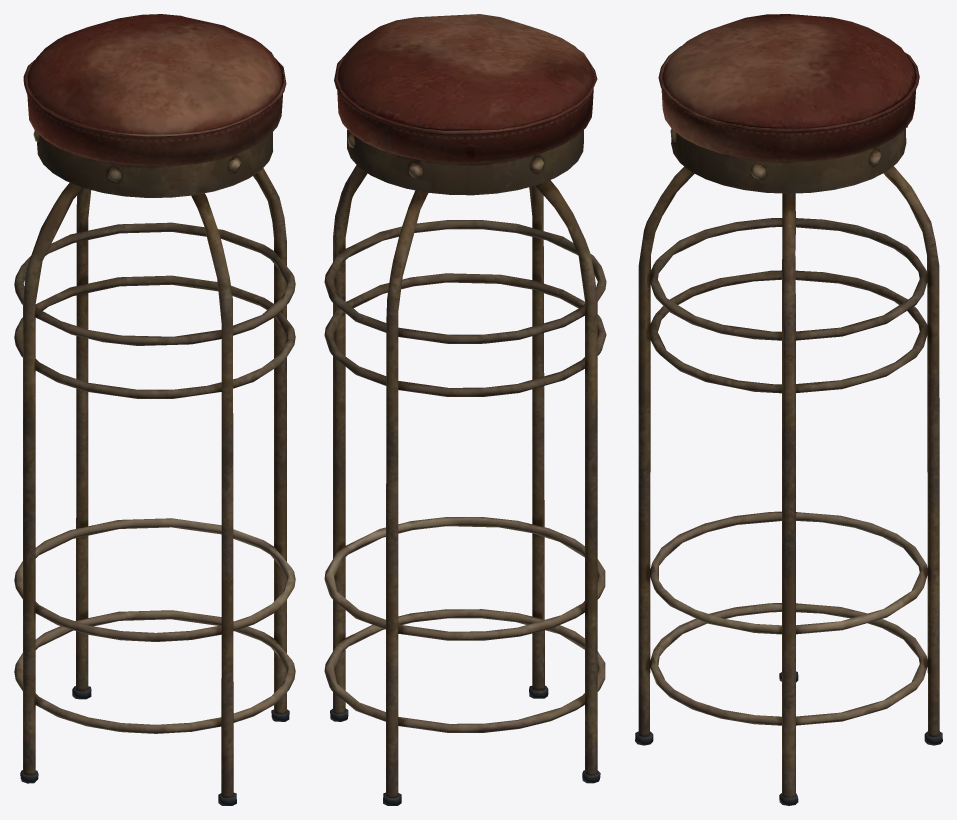
File: stool-metal.glb
3 renders of one model, left to right at view 1: azimuth 30°, elevation 25°; view 2: azimuth 150°, elevation 25°; view 3: azimuth 270°, elevation 25°, orthographic.
Visible parts, largest first — view 1: metal_stool_01; view 2: metal_stool_01; view 3: metal_stool_01.
Part boxes in pixels (<box>): metal_stool_01: <box>14,14,295,805</box>; metal_stool_01: <box>324,14,606,805</box>; metal_stool_01: <box>635,14,942,805</box>.
Size of the model in its own units: 0.351 by 0.8822 by 0.3538.
1 material, 1 textured.
